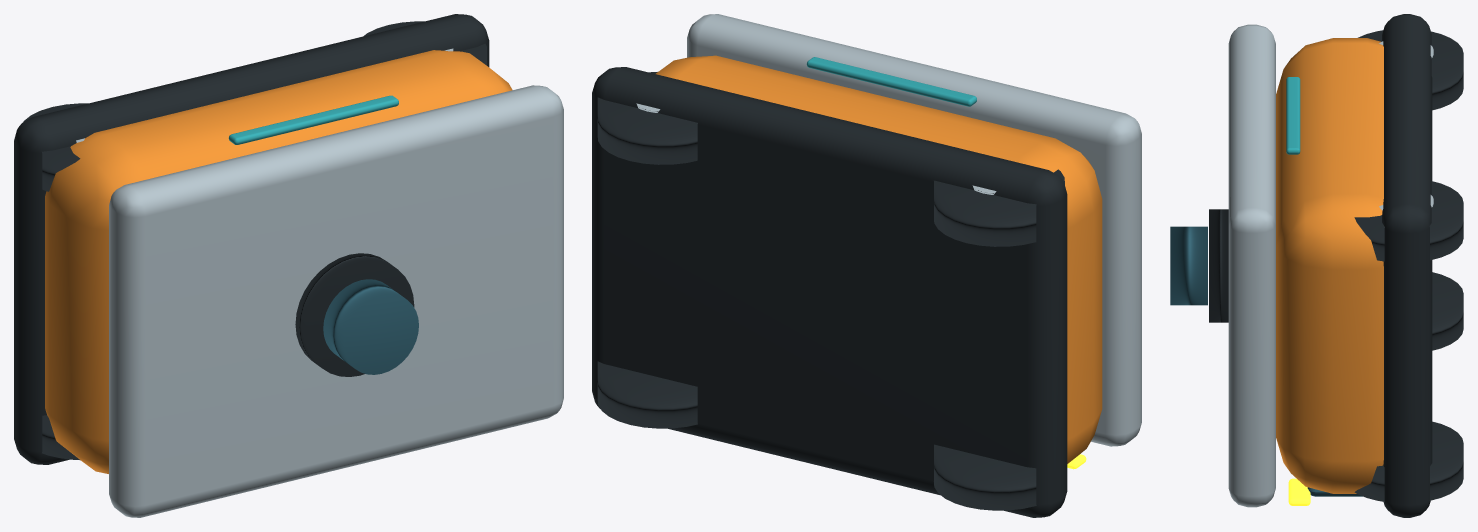
Rendered from hero_pallet_amr.glb.
3 renders of one model, left to right at view 1: azimuth 30°, elevation 25°; view 2: azimuth 150°, elevation 25°; view 3: azimuth 270°, elevation 25°, orthographic. The views are drawn at different scales.
Parts seen in each view (by area): view 1: AMR load deck, AMR body shell, AMR black perimeter bumper, AMR lidar rotating head, AMR lidar plinth, AMR status strip, AMR rubber wheel.001, AMR rubber wheel; view 2: AMR black perimeter bumper, AMR load deck, AMR body shell, AMR rubber wheel.001, AMR rubber wheel, AMR rubber wheel.003, AMR rubber wheel.002, AMR status strip; view 3: AMR body shell, AMR black perimeter bumper, AMR load deck, AMR lidar rotating head, AMR rubber wheel.003, AMR rubber wheel.002, AMR rubber wheel.001, AMR lidar plinth, AMR rubber wheel, AMR status strip, AMR amber front light.001.
Part boxes in pixels (left/top/right/bottom): AMR load deck: left=109, top=85, right=563, bottom=517; AMR body shell: left=45, top=50, right=512, bottom=473; AMR black perimeter bumper: left=14, top=14, right=489, bottom=464; AMR lidar rotating head: left=323, top=279, right=418, bottom=374; AMR lidar plinth: left=295, top=253, right=414, bottom=376; AMR status strip: left=228, top=95, right=398, bottom=144; AMR rubber wheel.001: left=23, top=103, right=88, bottom=191; AMR rubber wheel: left=42, top=415, right=80, bottom=460; AMR black perimeter bumper: left=592, top=67, right=1067, bottom=517; AMR load deck: left=687, top=14, right=1141, bottom=446; AMR body shell: left=656, top=55, right=1102, bottom=463; AMR rubber wheel.001: left=934, top=169, right=1064, bottom=246; AMR rubber wheel: left=934, top=444, right=1036, bottom=510; AMR rubber wheel.003: left=597, top=72, right=697, bottom=164; AMR rubber wheel.002: left=597, top=361, right=697, bottom=428; AMR status strip: left=806, top=57, right=976, bottom=106; AMR body shell: left=1276, top=38, right=1383, bottom=493; AMR black perimeter bumper: left=1382, top=14, right=1432, bottom=517; AMR load deck: left=1228, top=24, right=1275, bottom=507; AMR lidar rotating head: left=1170, top=226, right=1207, bottom=305; AMR rubber wheel.003: left=1354, top=181, right=1463, bottom=261; AMR rubber wheel.002: left=1354, top=421, right=1463, bottom=501; AMR rubber wheel.001: left=1358, top=30, right=1463, bottom=110; AMR lidar plinth: left=1209, top=209, right=1228, bottom=322; AMR rubber wheel: left=1432, top=272, right=1463, bottom=350; AMR status strip: left=1286, top=77, right=1300, bottom=154; AMR amber front light.001: left=1288, top=478, right=1310, bottom=505.
Bounding box in the file's own units: 1.55 × 1.09 × 0.93.
